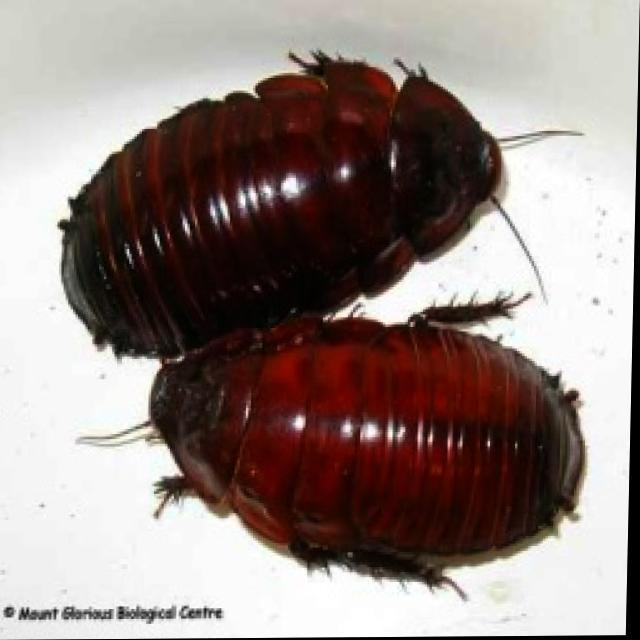cockroach: (51, 46, 516, 366), (119, 299, 605, 597)
